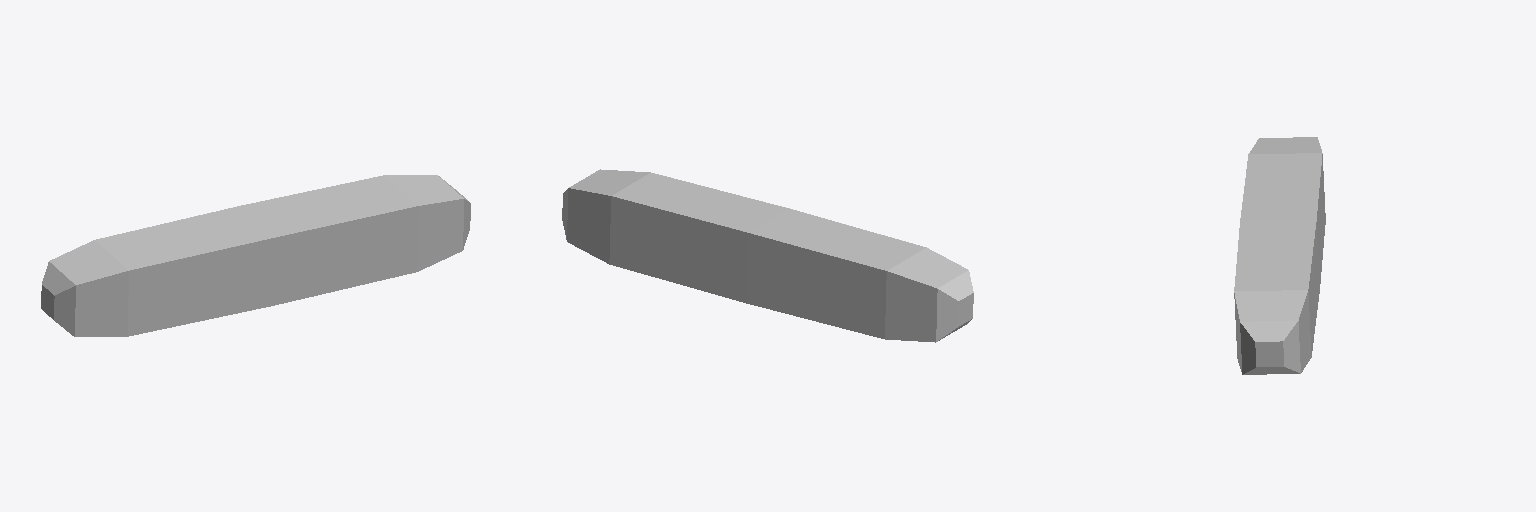
File: LeftArm.obj
3 views of the same model, side by side, from view 1: azimuth 30°, elevation 25°; view 2: azimuth 150°, elevation 25°; view 3: azimuth 270°, elevation 25° (orthographic).
Visible parts, largest first — view 1: ../rami/model/LeftArm; view 2: ../rami/model/LeftArm; view 3: ../rami/model/LeftArm.
Part boxes in pixels (x1,y1,x2,y2): ../rami/model/LeftArm: (41, 175, 470, 336); ../rami/model/LeftArm: (562, 169, 973, 342); ../rami/model/LeftArm: (1234, 137, 1325, 374).
Bounding box in the file's own units: 0.3289 × 0.056 × 0.0641.